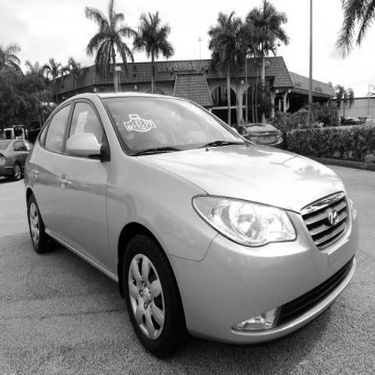car: (14, 96, 361, 367), (209, 125, 290, 149), (1, 139, 35, 180)
